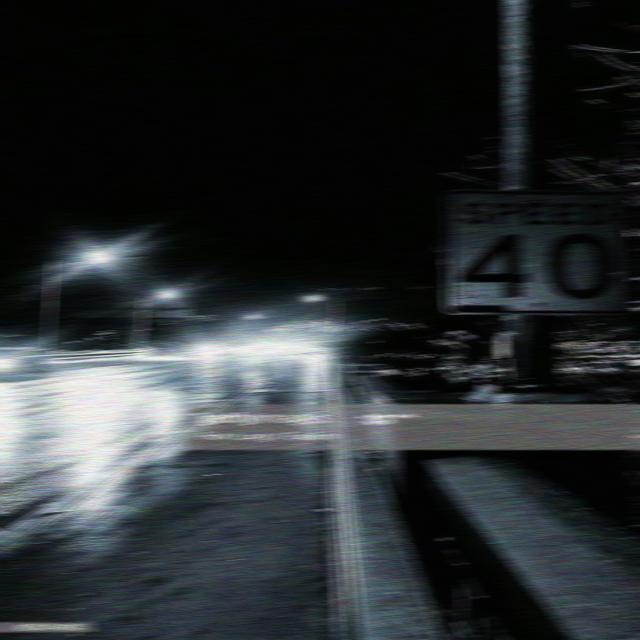speedLimit40: (444, 168, 627, 317)
